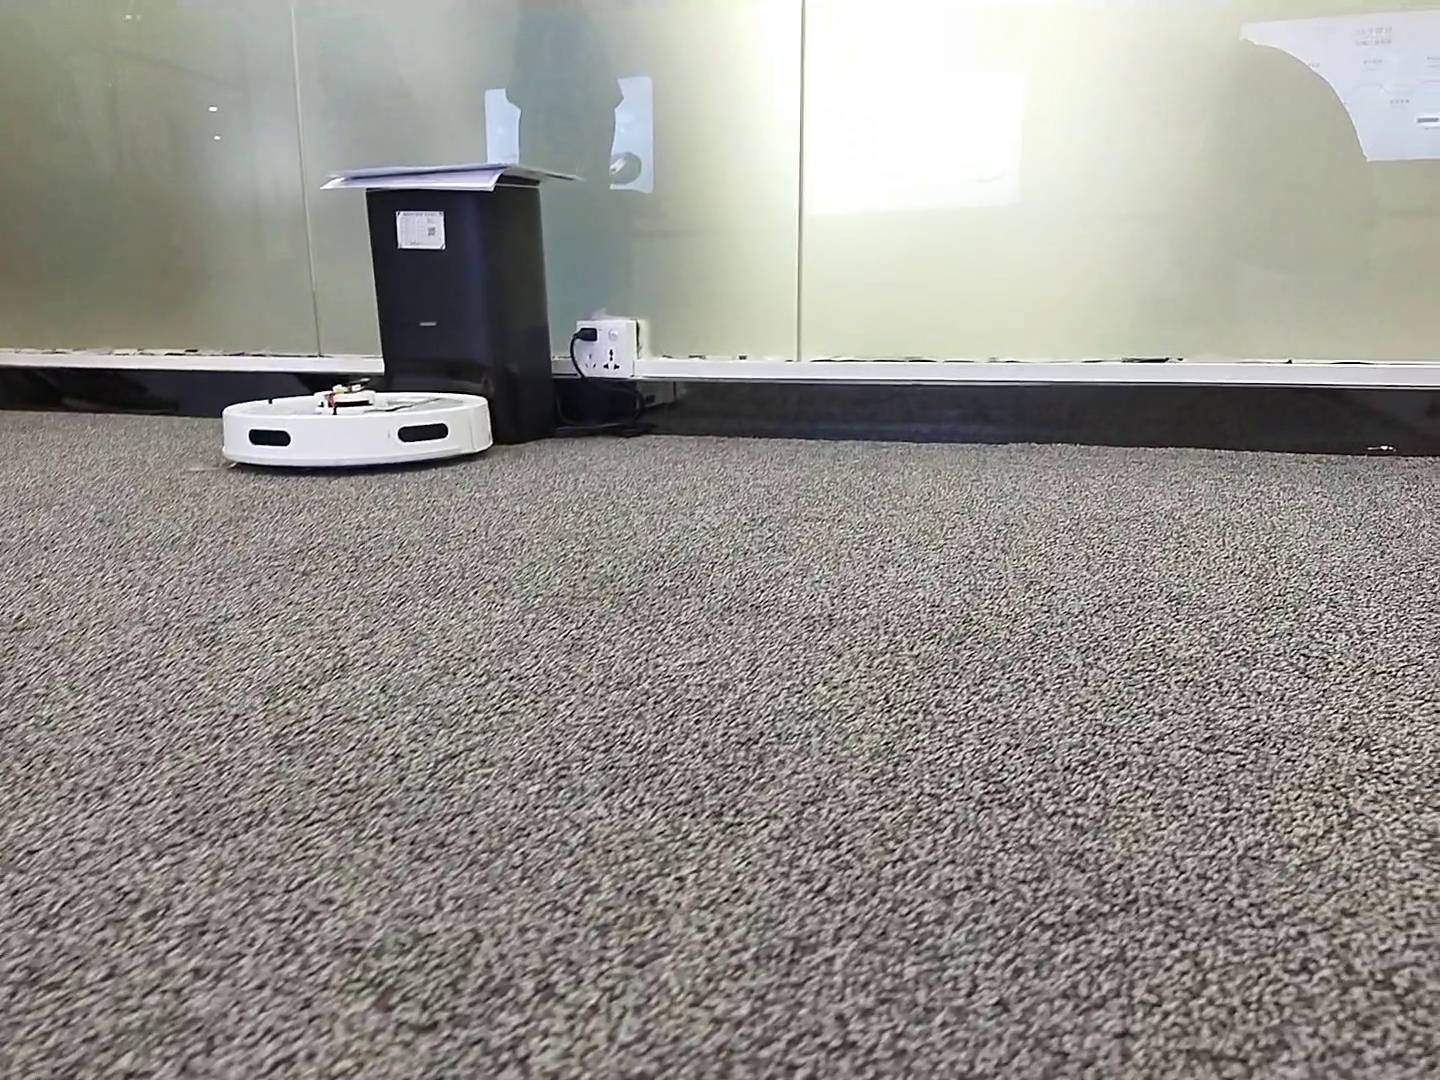dust collecting barrel: (364, 178, 557, 442)
